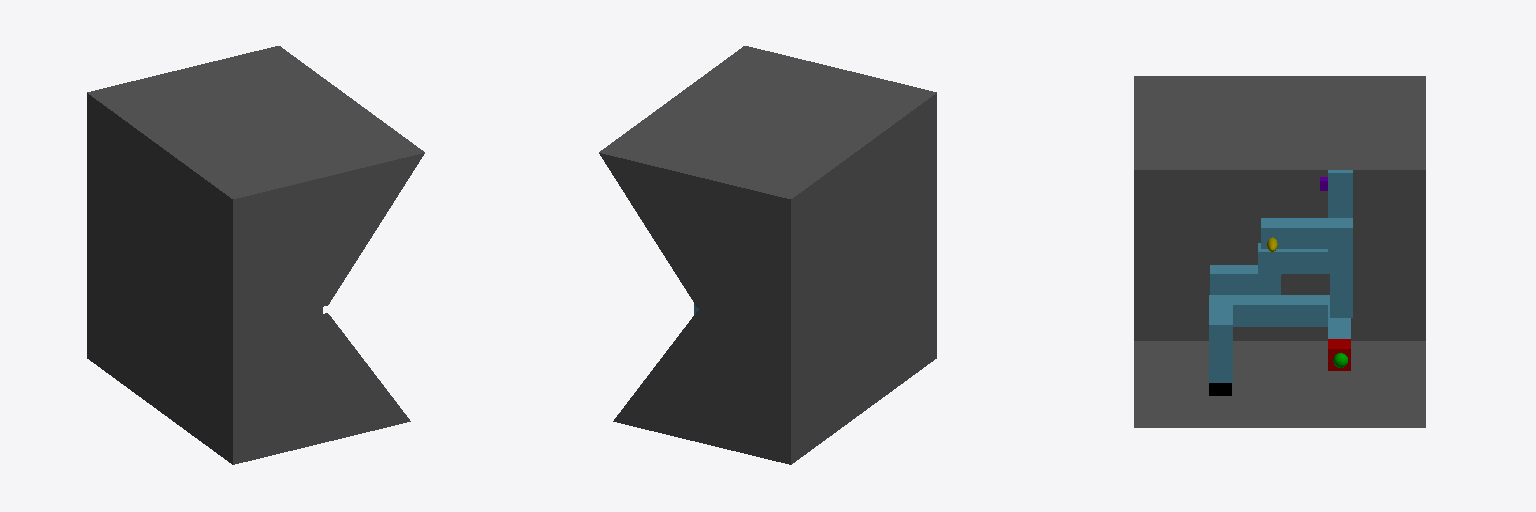
File: SpaceDuck_Level_3.obj
3 renders of one model, left to right at view 1: azimuth 30°, elevation 25°; view 2: azimuth 150°, elevation 25°; view 3: azimuth 270°, elevation 25°, orthographic.
Visible parts, largest first — view 1: Plane.001; view 2: Plane.001; view 3: Plane.001, Cube.001_Cube.002, Cube.
Part boxes in pixels (x1,y1,x2,y2): Plane.001: (87, 46, 424, 464); Plane.001: (599, 46, 936, 464); Plane.001: (1134, 76, 1425, 427); Cube.001_Cube.002: (1210, 170, 1352, 317); Cube: (1209, 295, 1350, 382).
Size of the model in its own units: 12.11 by 16.04 by 15.95.